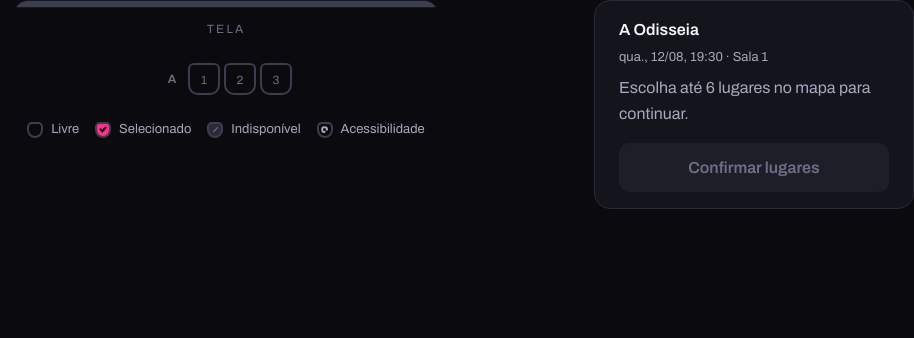
Test: seleção › nomeia os lugares escolhidos por fileira e número
Click the button named "Fileira".
click(276, 79)  # box x1=260 y1=63 x2=292 y2=95
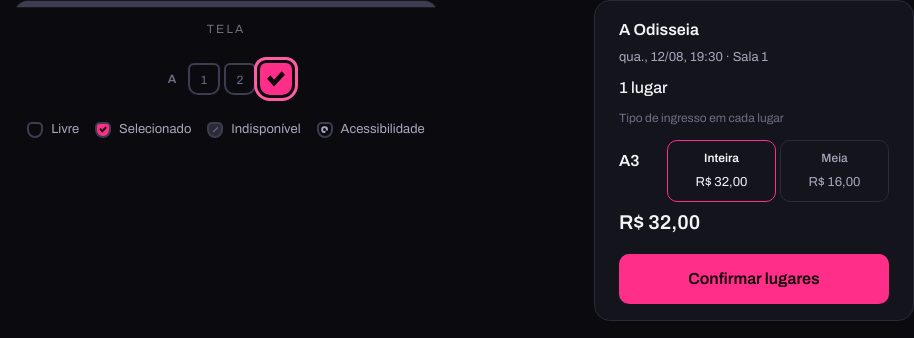
Now the text "A3" is shown, box x1=619 y1=152 x2=640 y2=169
